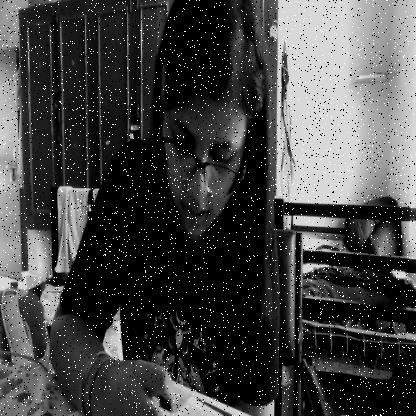Normal: (157, 0, 262, 241)
